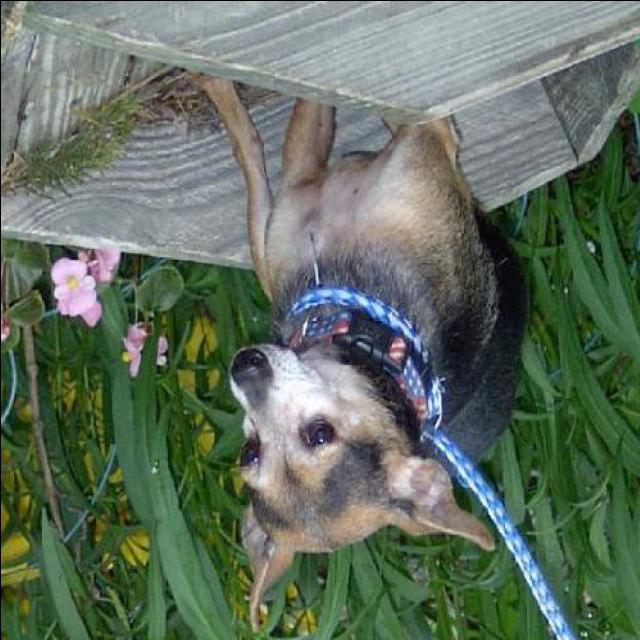dog: (187, 65, 542, 622)
